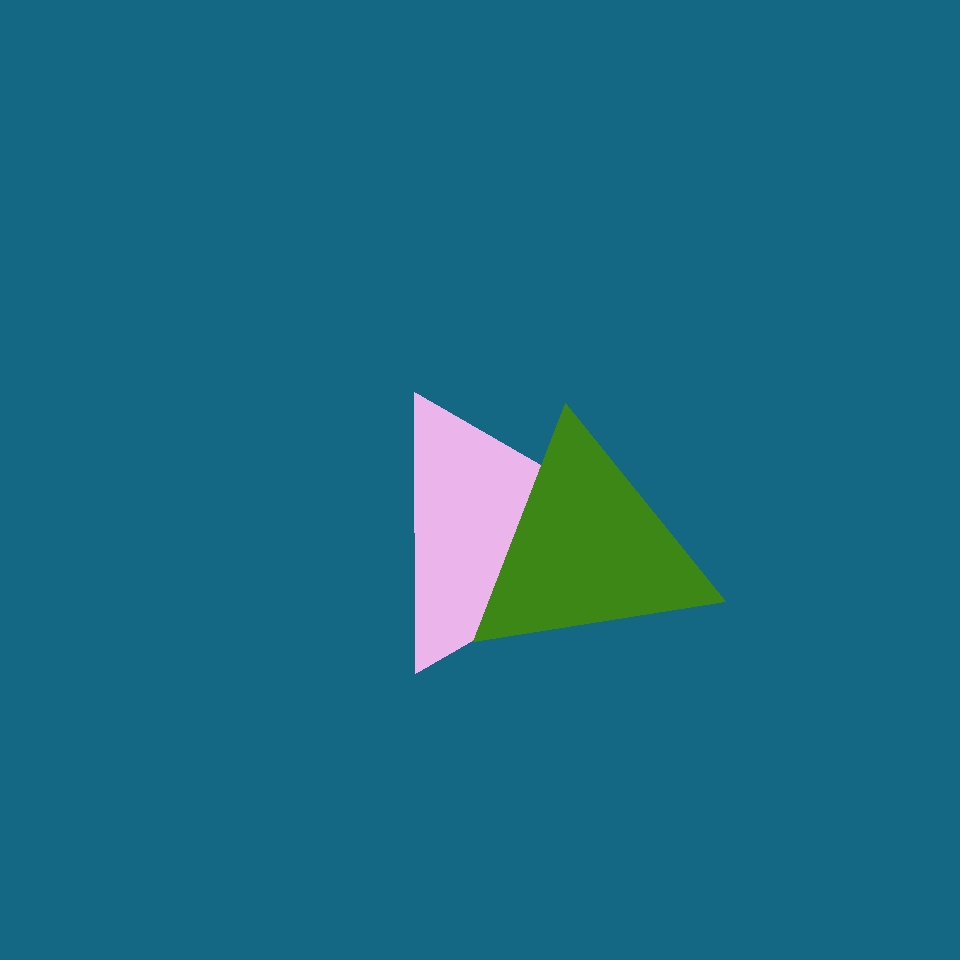circle: (374, 392, 618, 674), (462, 430, 714, 668), (80, 248, 274, 467)
square: (462, 748, 579, 865)
triangle: (305, 109, 582, 386)
